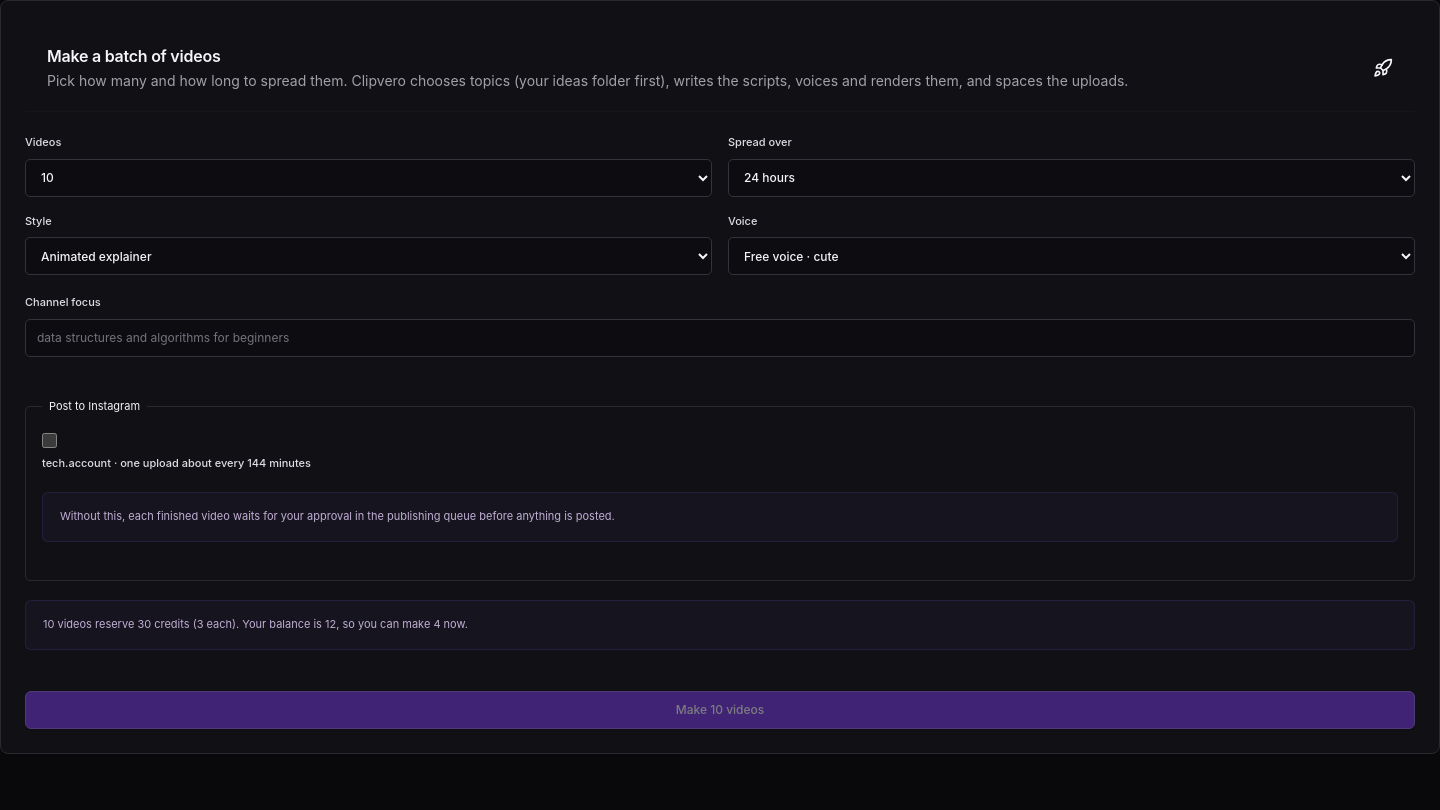
Test: the batch size is blocked when credits can't cover it, and says how many can be made
The width and height of the screenshot is (1440, 810).
expect the button "Make 10 videos" is disabled: met, box [25,690,1415,728]
Select "3" in the dropdown labelled "Videos" at coordinates (368, 178), box [25,159,712,197]
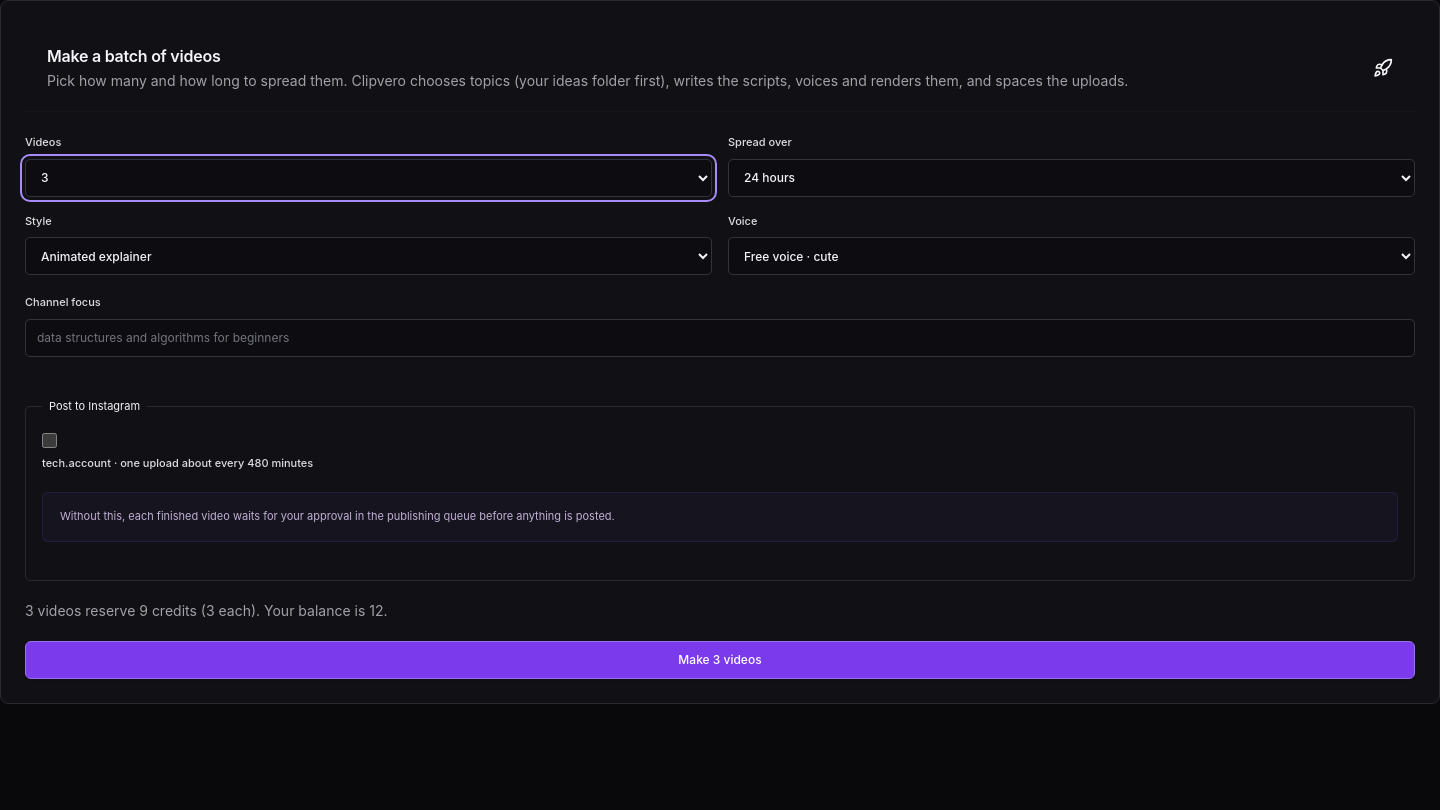
expect the button "Make 3 videos" is enabled: met, box [25,641,1415,679]
